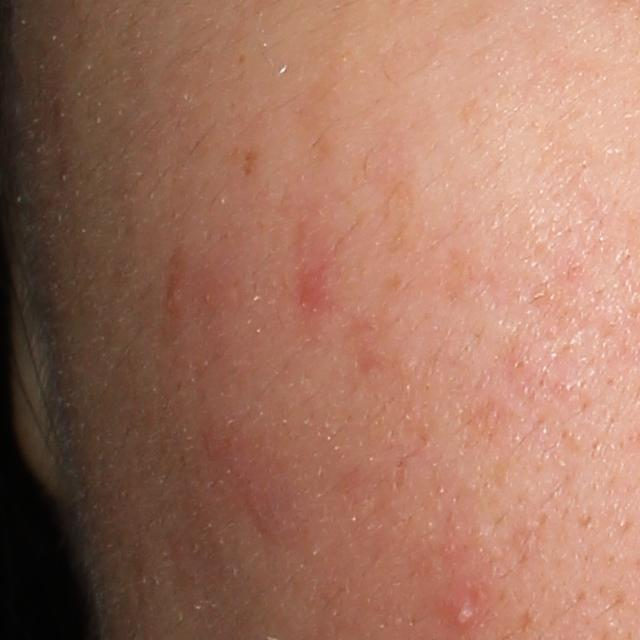papule: (162, 276, 183, 313)
pustule: (429, 574, 487, 633)
